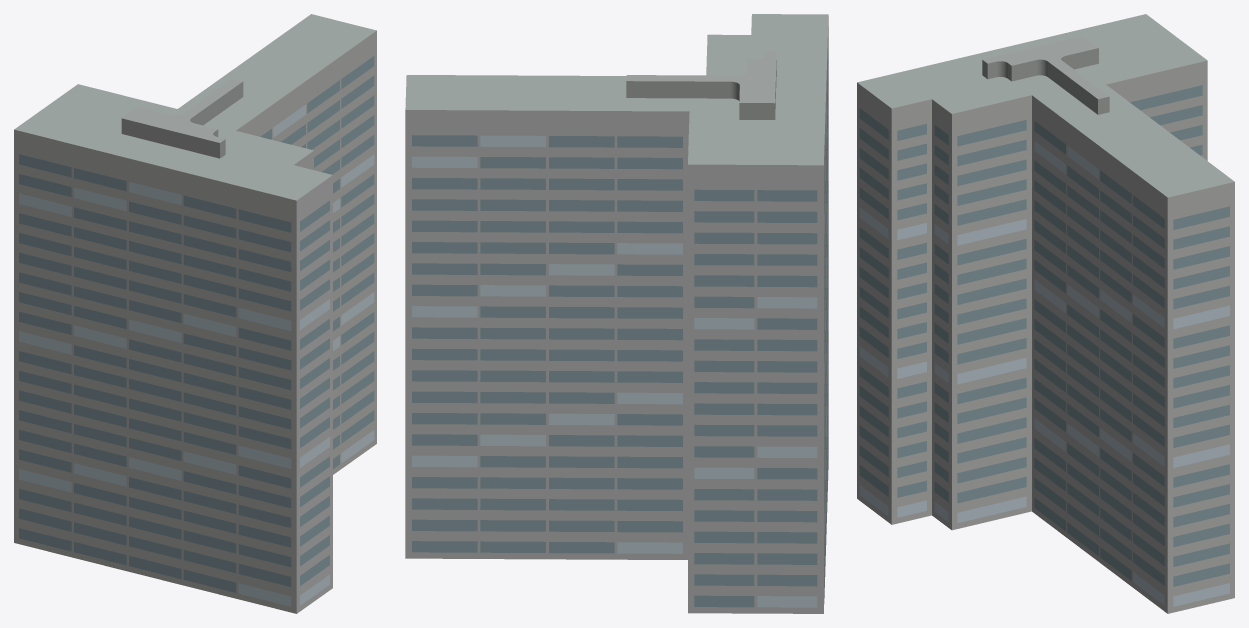
File: apt-a15205002.glb
3 views of the same model, side by side, from view 1: azimuth 30°, elevation 25°; view 2: azimuth 150°, elevation 25°; view 3: azimuth 270°, elevation 25° (orthographic). The views are drawn at different scales.
Parts seen in each view (by area): view 1: apt-a15205002; view 2: apt-a15205002; view 3: apt-a15205002.
Boxes of the visible parts, bbox=[...] form: apt-a15205002: bbox=[14, 14, 376, 613]; apt-a15205002: bbox=[405, 14, 828, 613]; apt-a15205002: bbox=[857, 14, 1234, 613].
Bounding box in the file's own units: 60.17 × 66 × 52.32.
